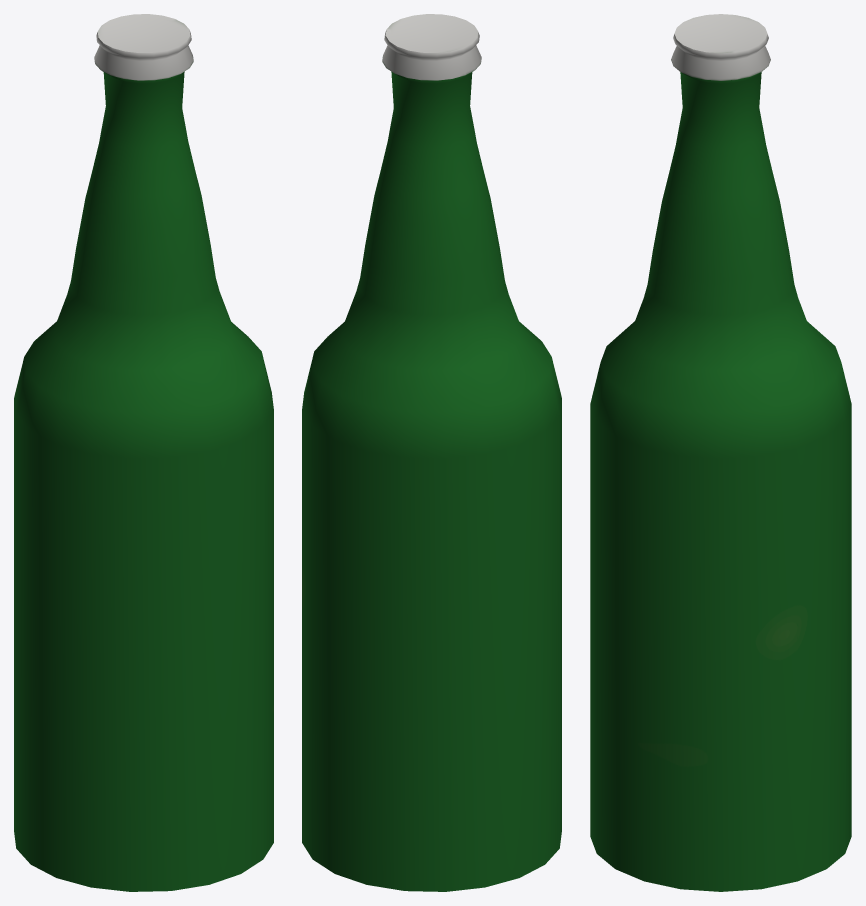
Rendered from BottleEmptyFinal.fbx.
3 renders of one model, left to right at view 1: azimuth 30°, elevation 25°; view 2: azimuth 150°, elevation 25°; view 3: azimuth 270°, elevation 25°, orthographic.
Visible parts, largest first — view 1: BottleEmptyFinal_OBJ; view 2: BottleEmptyFinal_OBJ; view 3: BottleEmptyFinal_OBJ.
Part boxes in pixels (<box>): BottleEmptyFinal_OBJ: <box>14,14,273,891</box>; BottleEmptyFinal_OBJ: <box>302,14,561,891</box>; BottleEmptyFinal_OBJ: <box>590,14,851,891</box>.
Size of the model in its own units: 7.96 by 26.99 by 7.96.
Materials: 1 (1 with a texture image).
